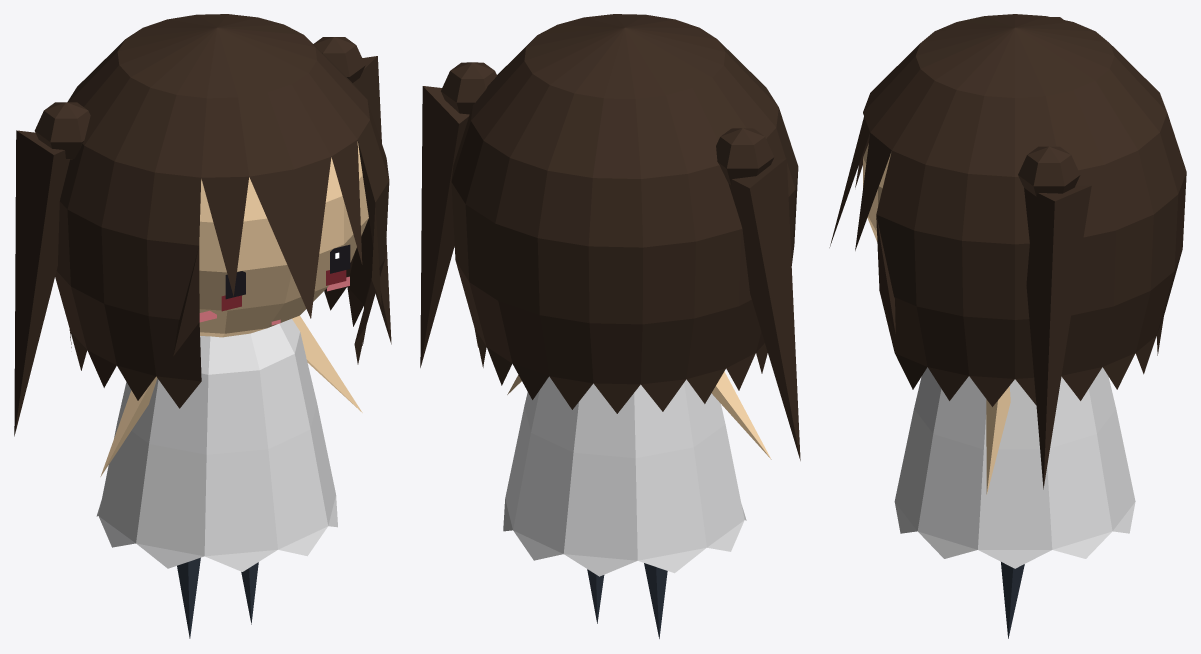
The model's file is lp_twin.glb.
3 renders of one model, left to right at view 1: azimuth 30°, elevation 25°; view 2: azimuth 150°, elevation 25°; view 3: azimuth 270°, elevation 25°, orthographic.
Parts seen in each view (by area): view 1: hair, cloth, skin, armR, armL, legL, eye, legR; view 2: hair, cloth, armL, legL; view 3: hair, cloth, armR, legR, skin.
Boxes of the visible parts, x1,y1,x2,y2 form: hair: [14, 14, 391, 436]; cloth: [96, 318, 337, 571]; skin: [199, 141, 368, 337]; armR: [292, 315, 362, 412]; armL: [100, 376, 157, 476]; legL: [177, 557, 200, 638]; eye: [225, 244, 350, 299]; legR: [241, 562, 258, 624]; hair: [420, 14, 800, 460]; cloth: [503, 376, 746, 576]; armL: [712, 371, 771, 459]; legL: [644, 563, 667, 638]; hair: [829, 14, 1186, 489]; cloth: [894, 367, 1135, 568]; armR: [986, 386, 1010, 494]; legR: [1001, 562, 1024, 638]; skin: [863, 143, 890, 241].
Bounding box in the file's own units: 0.76 × 1.16 × 0.629.
